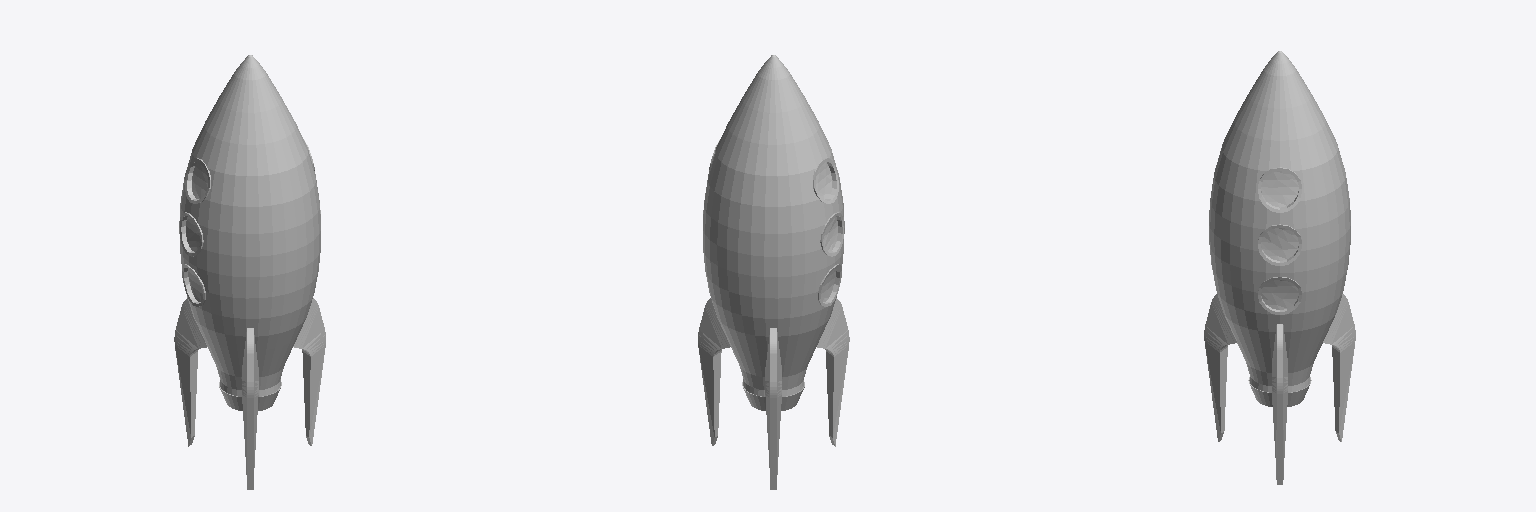
Rendered from spaceship.obj.
3 renders of one model, left to right at view 1: azimuth 30°, elevation 25°; view 2: azimuth 150°, elevation 25°; view 3: azimuth 270°, elevation 25°, orthographic.
Visible parts, largest first — view 1: Spaceship; view 2: Spaceship; view 3: Spaceship.
Part boxes in pixels (bbox=[...]): Spaceship: bbox=[174, 55, 325, 489]; Spaceship: bbox=[698, 55, 849, 489]; Spaceship: bbox=[1204, 51, 1355, 484].
Bounding box in the file's own units: 1.91 × 5.42 × 1.84.